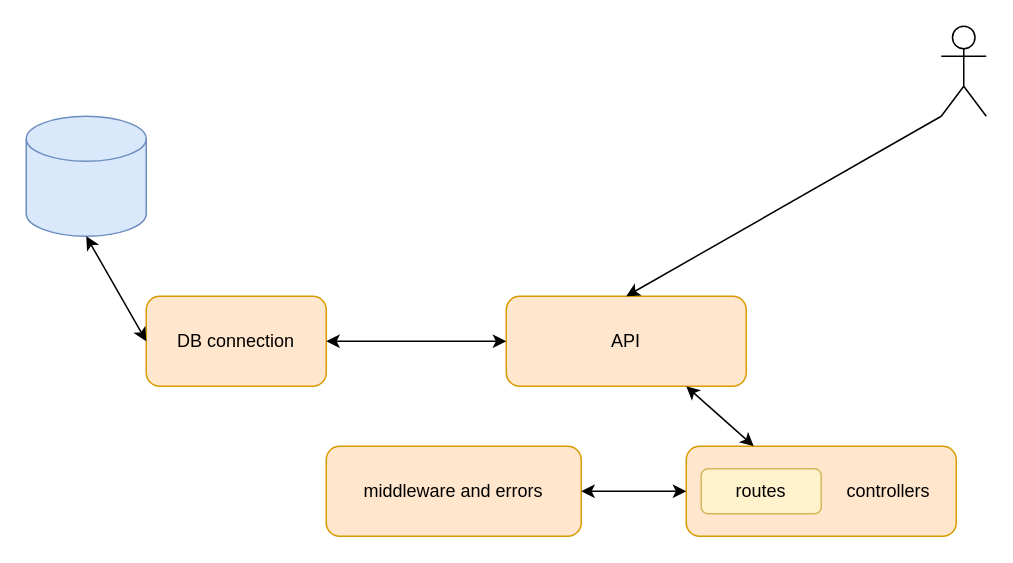
This 1013x563 diagram has some shape labels left out. Here are the shapes that lost their labels. From the top down, the box of each, then its label:
(940, 25, 986, 116): Client
(25, 115, 146, 236): DB
